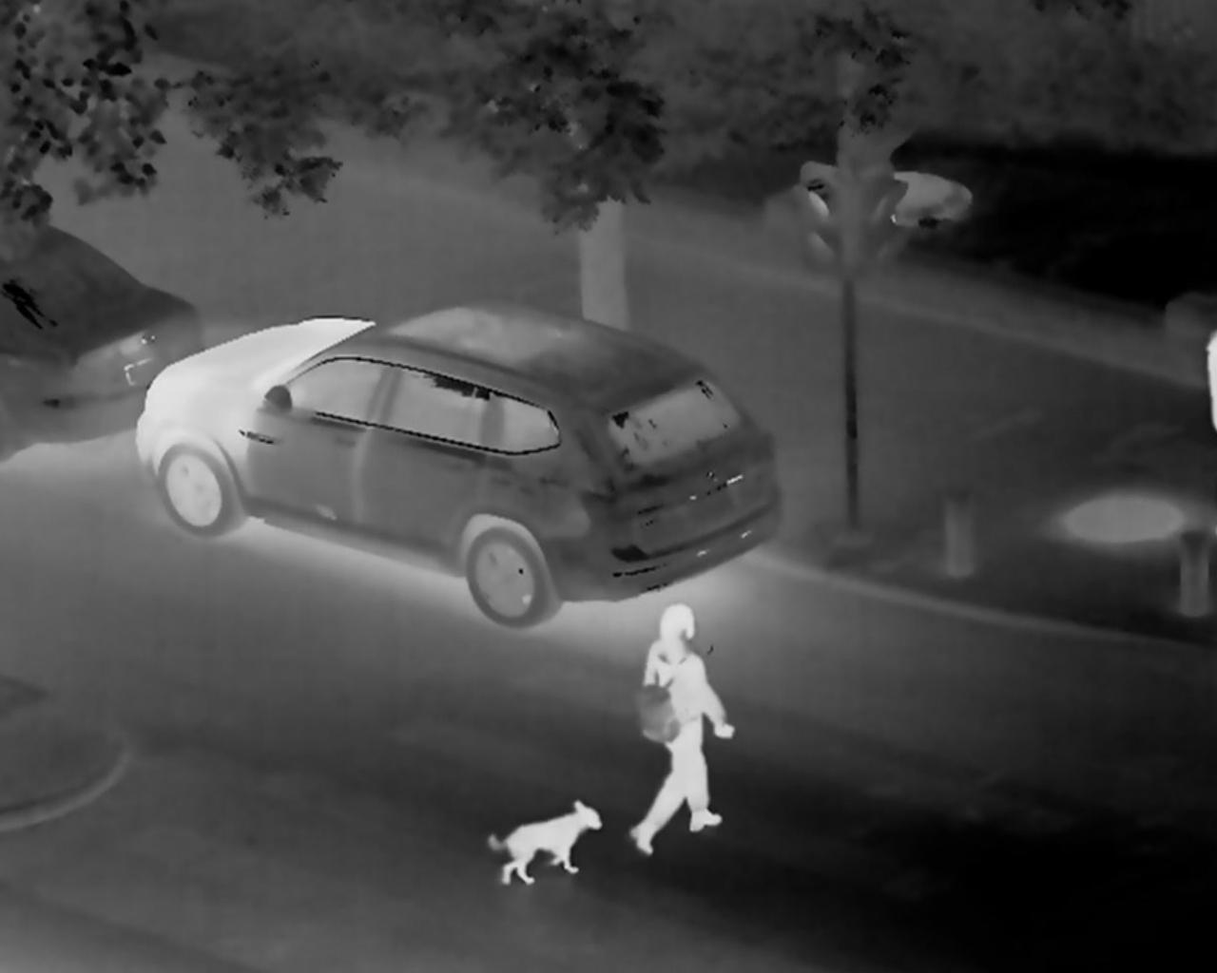person: (626, 596, 737, 855)
